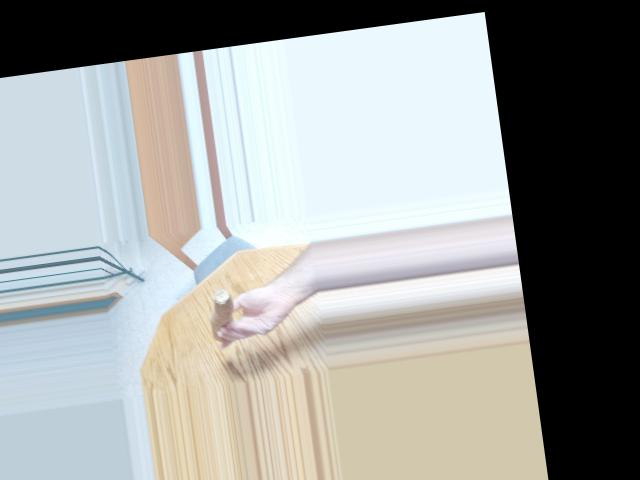sweet_potato: (202, 279, 251, 345)
